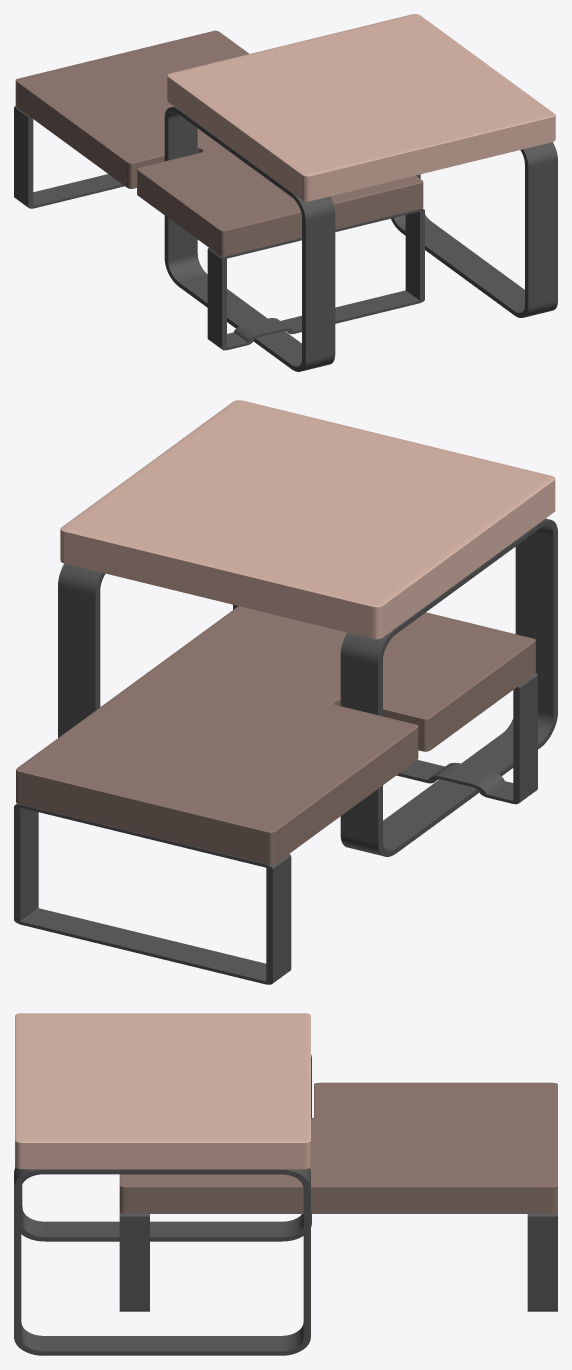
Rendered from coffeetable.fbx.
3 renders of one model, top to bottom at view 1: azimuth 30°, elevation 25°; view 2: azimuth 150°, elevation 25°; view 3: azimuth 270°, elevation 25°, orthographic. The views are drawn at different scales.
Visible parts, largest first — view 1: Cube.005; view 2: Cube.005; view 3: Cube.005.
Part boxes in pixels (box(x1,y1,x2,y2)): Cube.005: box(14, 14, 557, 371); Cube.005: box(14, 400, 557, 984); Cube.005: box(14, 1013, 557, 1355).
Size of the model in its own units: 419 by 284 by 654.
